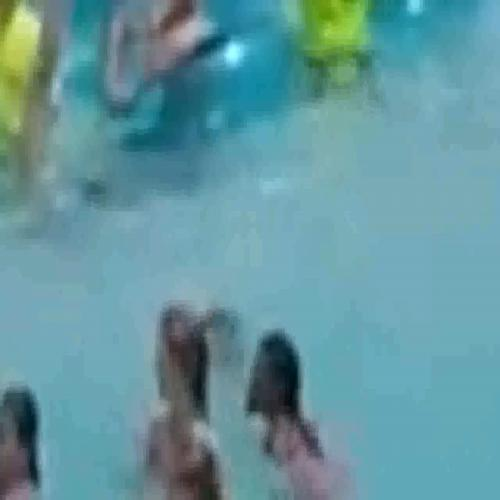drowning: (198, 290, 248, 362)
swimming: (148, 311, 196, 470), (252, 342, 311, 446), (0, 384, 46, 499)
